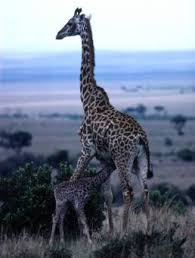Jirafa: (41, 7, 126, 130)
